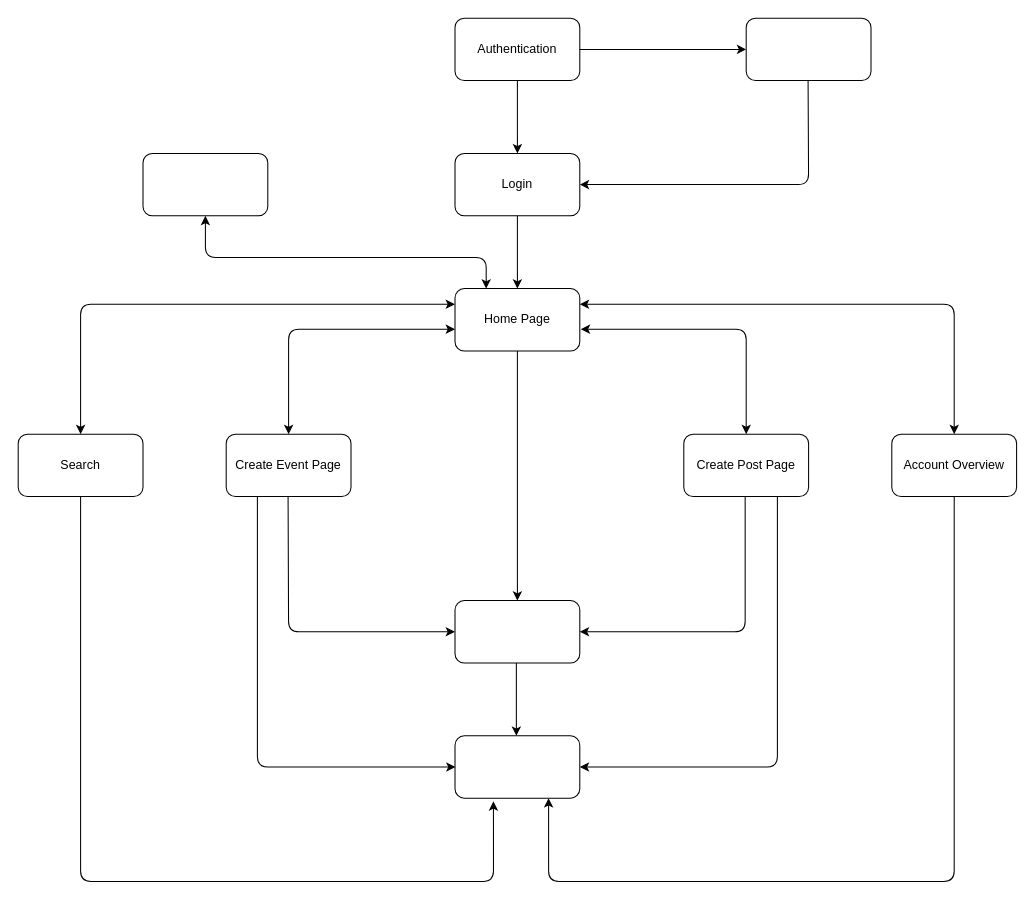
Image size: 1035x908. Some labels were removed from this diagram. Each missing label, with the centre of its shape:
Camera Page: the point at 205,184
Feed Page: the point at 517,631
Logout: the point at 517,766
Register: the point at 808,49
